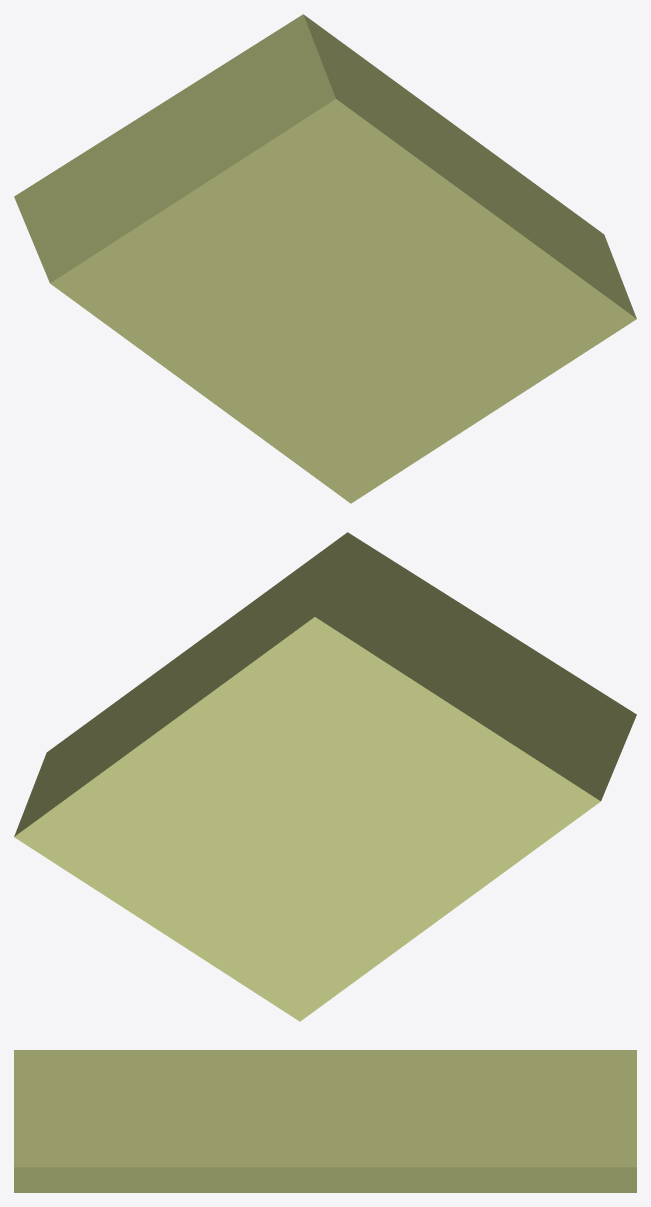
3 views of the same model, one above another, from view 1: azimuth 30°, elevation 25°; view 2: azimuth 150°, elevation 25°; view 3: azimuth 270°, elevation 25° (orthographic). The views are drawn at different scales.
Parts seen in each view (by area): view 1: 0_1_3_2_1_1_3_2_1_1_2; view 2: 0_1_3_2_1_1_3_2_1_1_2; view 3: 0_1_3_2_1_1_3_2_1_1_2.
Part boxes in pixels (<box>): 0_1_3_2_1_1_3_2_1_1_2: <box>14,14,636,503</box>; 0_1_3_2_1_1_3_2_1_1_2: <box>14,532,636,1021</box>; 0_1_3_2_1_1_3_2_1_1_2: <box>14,1050,636,1192</box>.
Bounding box in the file's own units: 5.56 × 3.42 × 9.
